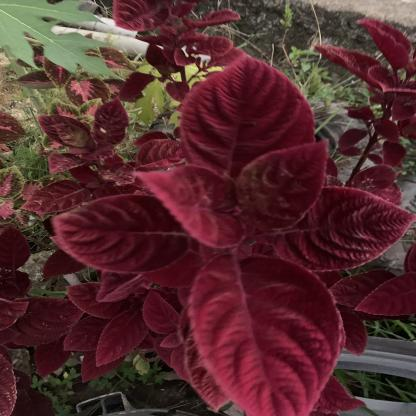Bunga Coleus: (89, 113, 408, 410), (113, 9, 246, 90)
